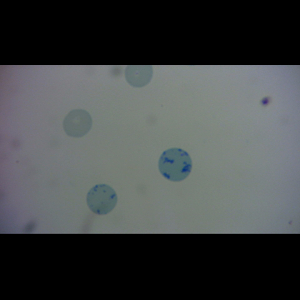aggregate reticulocyte: (157, 146, 194, 183), (85, 182, 118, 216)
erythrocyte: (61, 107, 94, 139)
